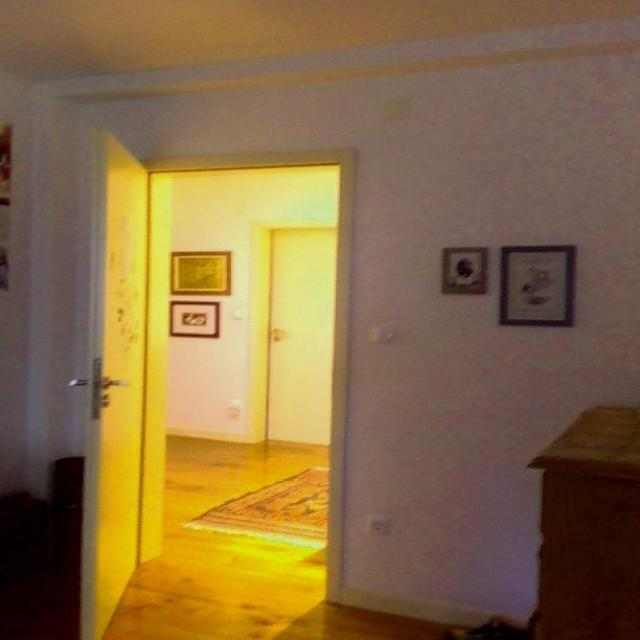door: (61, 128, 158, 640)
